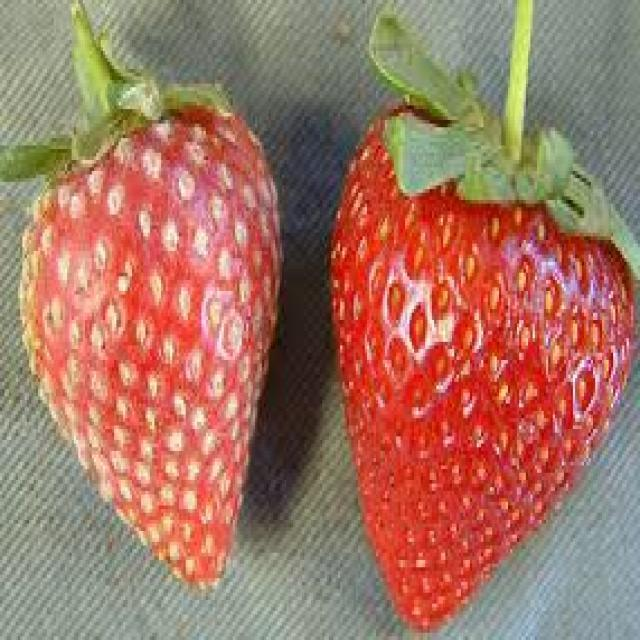Fruta sana: (333, 78, 634, 625)
Oído: (23, 92, 286, 590)
